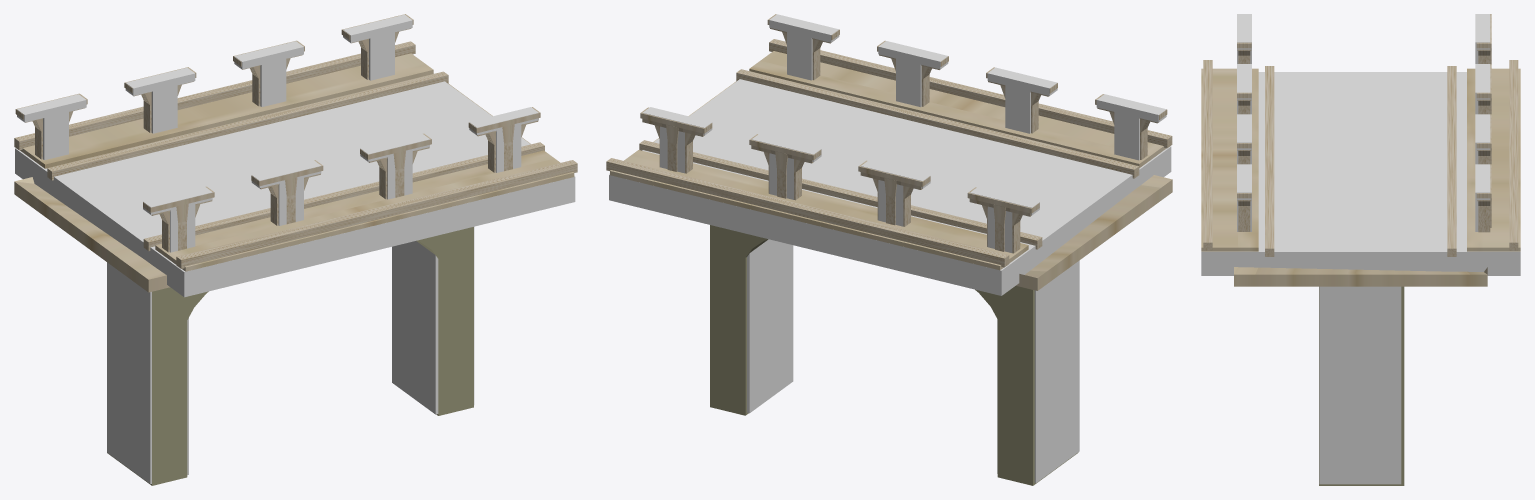
The model's file is Bridge.gltf.
3 views of the same model, side by side, from view 1: azimuth 30°, elevation 25°; view 2: azimuth 150°, elevation 25°; view 3: azimuth 270°, elevation 25° (orthographic). The views are drawn at different scales.
Parts seen in each view (by area): view 1: COL.003, 立方体, 立方体.001, 円, COL, COL.004, Cube, COL.001, COL.007; view 2: COL.003, 立方体, 立方体.001, 円, COL, COL.007, Cube, COL.001, COL.004; view 3: COL.003, 立方体, COL.001, 立方体.001, Cube, COL.004, COL.007, 円.
Part boxes in pixels (x1,y1,x2,y2): COL.003: (15, 73, 575, 297); 立方体: (14, 53, 574, 292); 立方体.001: (14, 41, 577, 268); 円: (107, 227, 473, 485); COL: (107, 262, 188, 483); COL.004: (17, 14, 412, 160); Cube: (15, 14, 540, 252); COL.001: (392, 227, 474, 414); COL.007: (143, 107, 538, 252); COL.003: (609, 79, 1171, 295); 立方体: (610, 51, 1172, 290); 立方体.001: (606, 39, 1172, 267); 円: (710, 225, 1078, 485); COL: (997, 260, 1079, 482); COL.007: (769, 14, 1166, 160); Cube: (640, 14, 1167, 253); COL.001: (747, 239, 793, 413); COL.004: (643, 107, 1039, 252); COL.003: (1201, 72, 1520, 275); 立方体: (1201, 68, 1520, 286); COL.001: (1319, 286, 1401, 484); 立方体.001: (1203, 60, 1518, 256); Cube: (1237, 14, 1491, 232); COL.004: (1475, 14, 1490, 231); COL.007: (1237, 14, 1251, 231); 円: (1319, 286, 1404, 485).
Size of the model in its own units: 12.87 by 9.27 by 8.85.
Materials: 3 (3 with a texture image).
